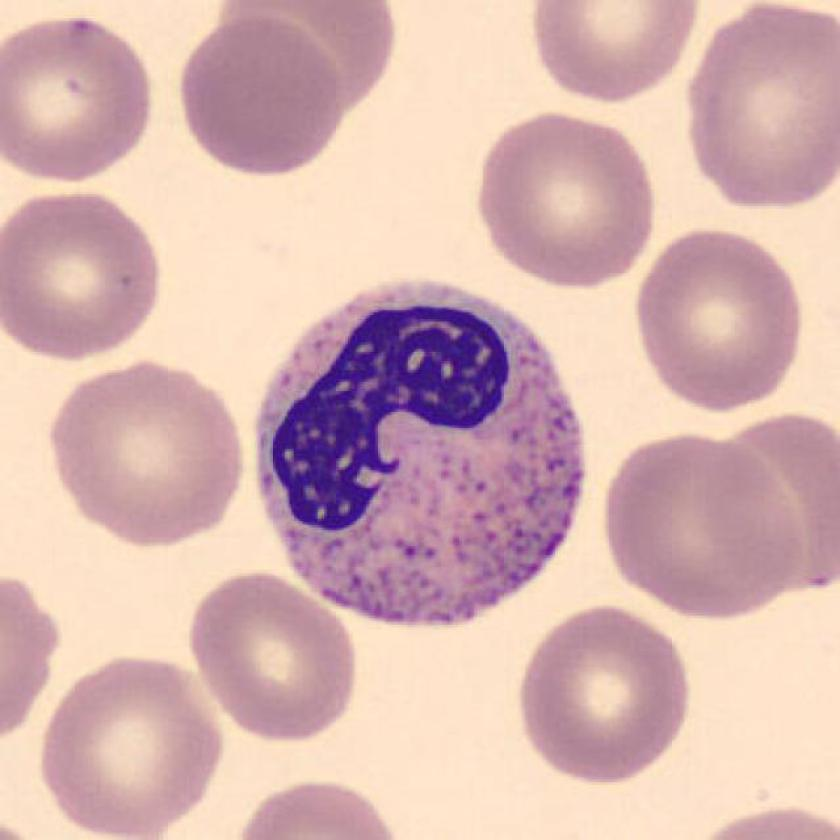neutrophil: (257, 282, 584, 627)
